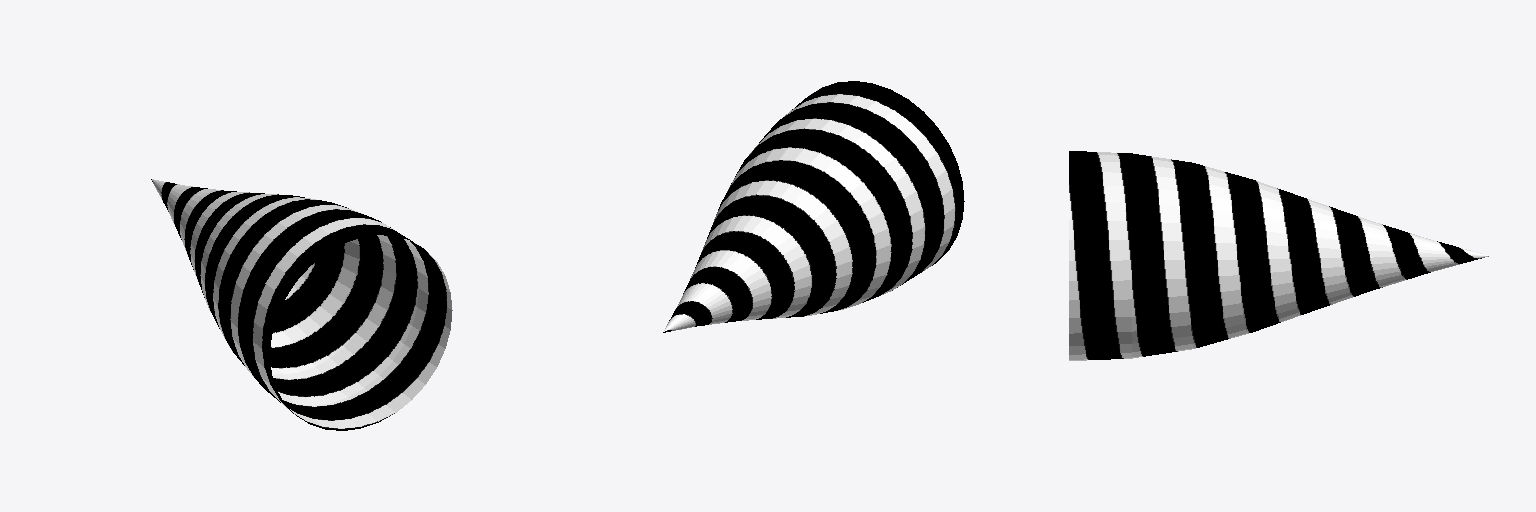
The picture shows the model from 3 angles: view 1: azimuth 30°, elevation 25°; view 2: azimuth 150°, elevation 25°; view 3: azimuth 270°, elevation 25°; orthographic projection.
Parts seen in each view (by area): view 1: Tunnel; view 2: Tunnel; view 3: Tunnel.
Part boxes in pixels (x1,y1,x2,y2): Tunnel: (151, 179, 452, 430); Tunnel: (663, 81, 964, 332); Tunnel: (1069, 151, 1488, 360).
Size of the model in its own units: 4000 by 4000 by 8000.
Materials: 1 (1 with a texture image).